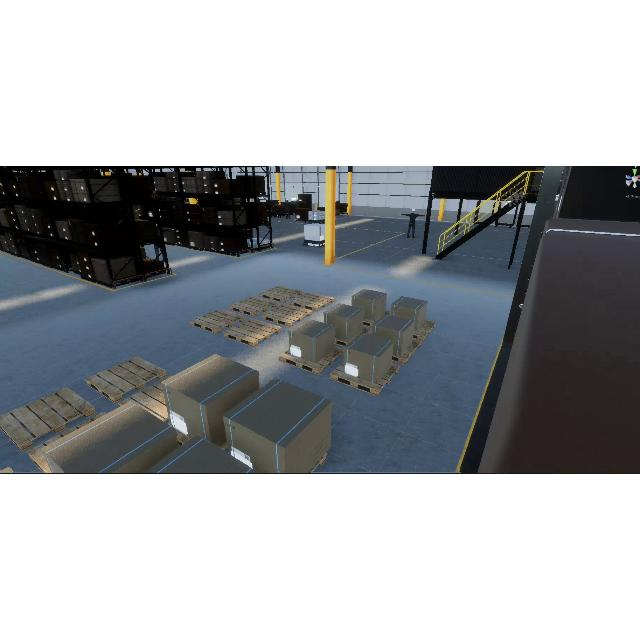wooden_pallet: (330, 361, 399, 397), (279, 347, 344, 375), (223, 319, 282, 347), (189, 308, 246, 334), (260, 304, 312, 327), (228, 296, 278, 317), (290, 292, 335, 311), (392, 339, 422, 365)
